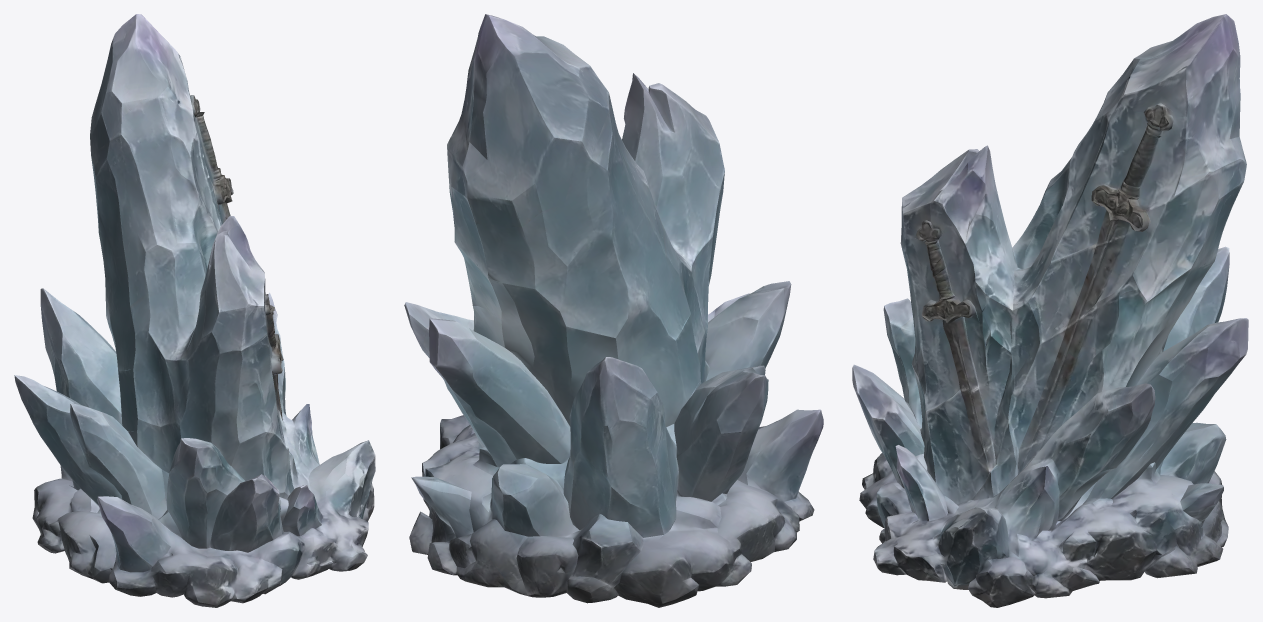
Rendered from crystal.glb.
3 views of the same model, side by side, from view 1: azimuth 30°, elevation 25°; view 2: azimuth 150°, elevation 25°; view 3: azimuth 270°, elevation 25° (orthographic). The views are drawn at different scales.
Visible parts, largest first — view 1: model; view 2: model; view 3: model.
Boxes of the visible parts, left/top/right/bottom form: model: left=14, top=14, right=375, bottom=607; model: left=404, top=14, right=823, bottom=607; model: left=852, top=14, right=1248, bottom=607.
Size of the model in its own units: 1.32 by 1.89 by 1.3.
Materials: 1 (1 with a texture image).
